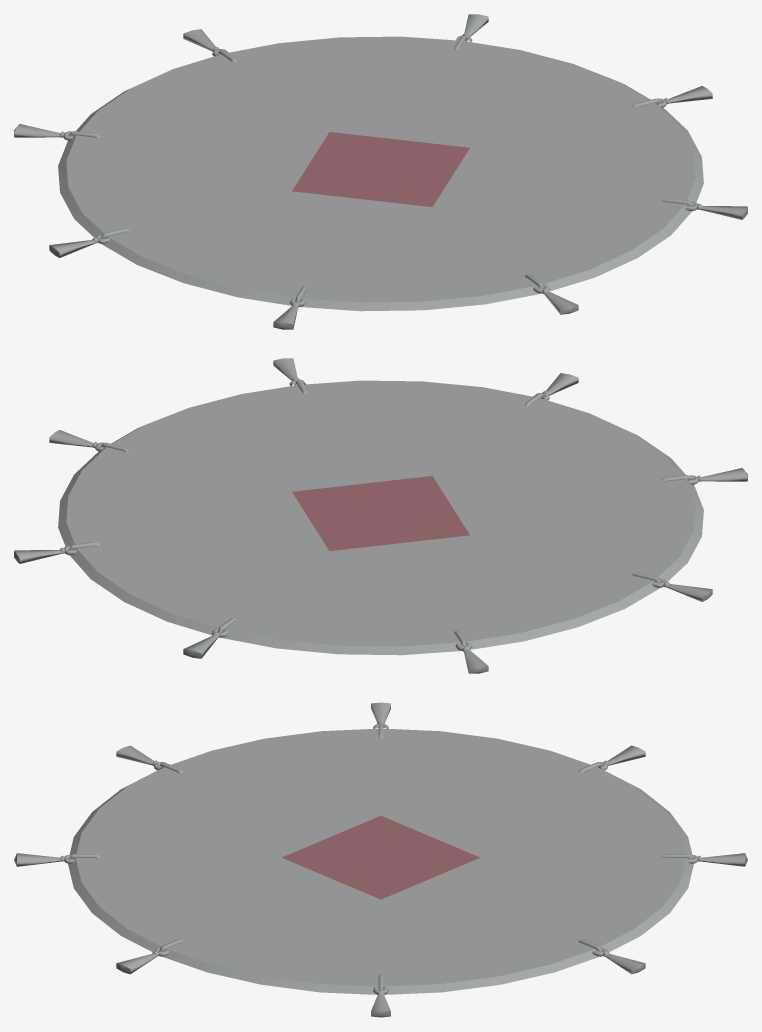
3 views of the same model, one above another, from view 1: azimuth 30°, elevation 25°; view 2: azimuth 150°, elevation 25°; view 3: azimuth 270°, elevation 25° (orthographic). The views are drawn at different scales.
Visible parts, largest first — view 1: G:\FFXIV-MapTools\exports\y6f2\bg\ex5\02_ykt_y6\fld\y6f2\bgp (×4); view 2: G:\FFXIV-MapTools\exports\y6f2\bg\ex5\02_ykt_y6\fld\y6f2\bgp (×4); view 3: G:\FFXIV-MapTools\exports\y6f2\bg\ex5\02_ykt_y6\fld\y6f2\bgp (×4).
Part boxes in pixels (bbox=[...]): G:\FFXIV-MapTools\exports\y6f2\bg\ex5\02_ykt_y6\fld\y6f2\bgp (×4): bbox=[14, 14, 747, 329]; G:\FFXIV-MapTools\exports\y6f2\bg\ex5\02_ykt_y6\fld\y6f2\bgp (×4): bbox=[14, 358, 747, 673]; G:\FFXIV-MapTools\exports\y6f2\bg\ex5\02_ykt_y6\fld\y6f2\bgp (×4): bbox=[14, 702, 747, 1017].
Size of the model in its own units: 5.99 by 0.0836 by 5.99.
